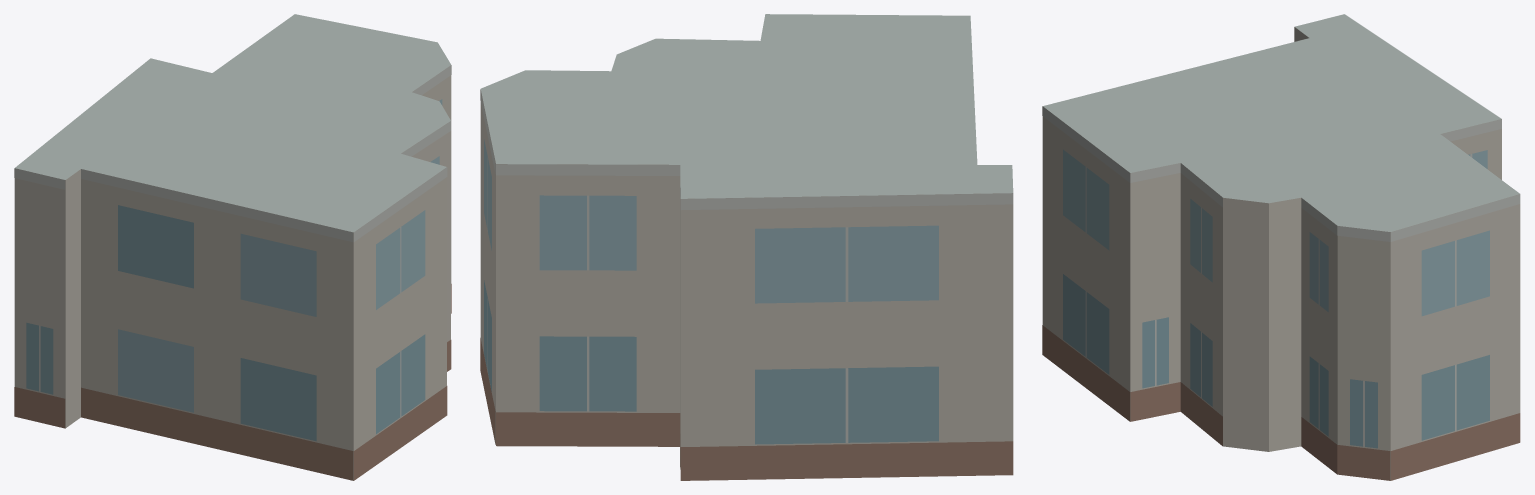
Rendered from survey-upis-32481496.glb.
3 views of the same model, side by side, from view 1: azimuth 30°, elevation 25°; view 2: azimuth 150°, elevation 25°; view 3: azimuth 270°, elevation 25° (orthographic). The views are drawn at different scales.
Parts seen in each view (by area): view 1: survey-upis-32481496.tmp; view 2: survey-upis-32481496.tmp; view 3: survey-upis-32481496.tmp.
Boxes of the visible parts, x1,y1,x2,y2 form: survey-upis-32481496.tmp: (14,14,451,480); survey-upis-32481496.tmp: (480,14,1013,480); survey-upis-32481496.tmp: (1042,14,1520,480).
Size of the model in its own units: 11.48 by 6.1 by 10.63.
